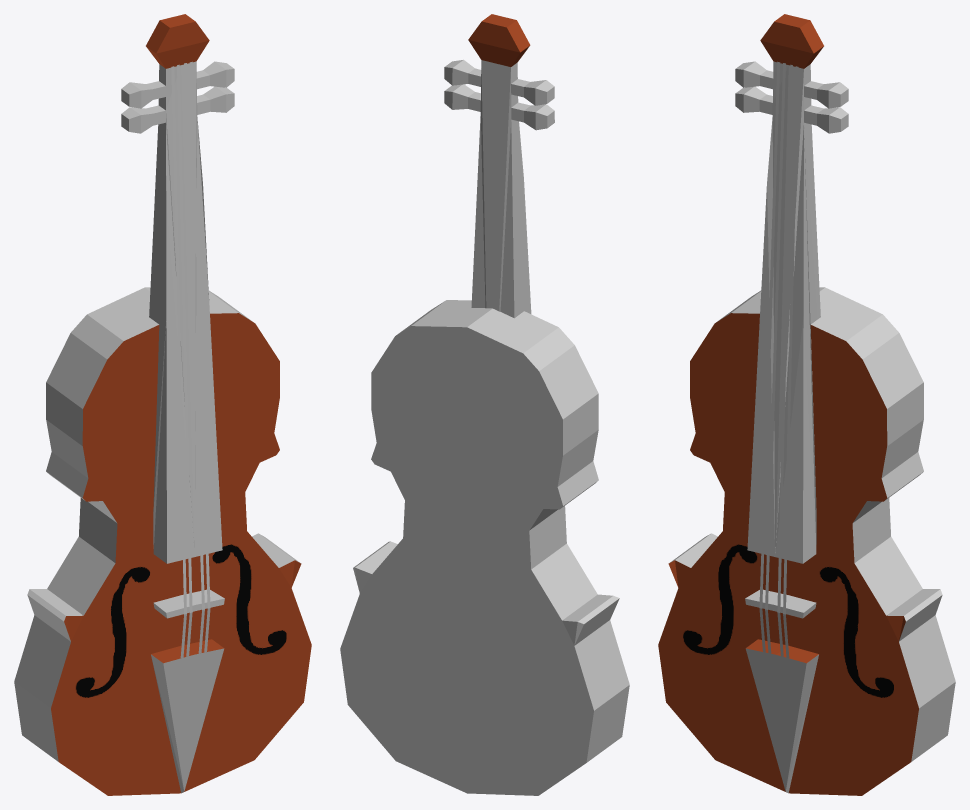
The model's file is fiddle.obj.
3 views of the same model, side by side, from view 1: azimuth 30°, elevation 25°; view 2: azimuth 150°, elevation 25°; view 3: azimuth 330°, elevation 25° (orthographic). The views are drawn at different scales.
Visible parts, largest first — view 1: Cube; view 2: Cube; view 3: Cube.
Boxes of the visible parts, x1,y1,x2,y2 form: Cube: (14, 14, 311, 795); Cube: (340, 14, 629, 795); Cube: (658, 14, 955, 795).
Size of the model in its own units: 0.3238 by 0.9127 by 0.1148.
